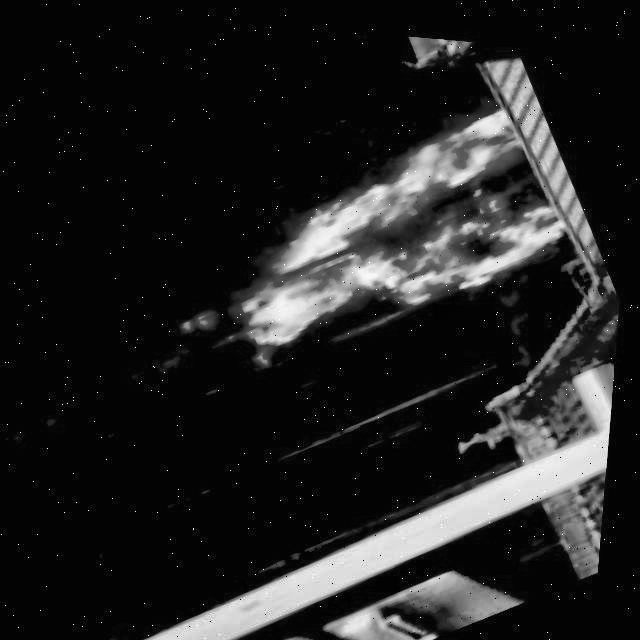Fire: (184, 71, 588, 402)
